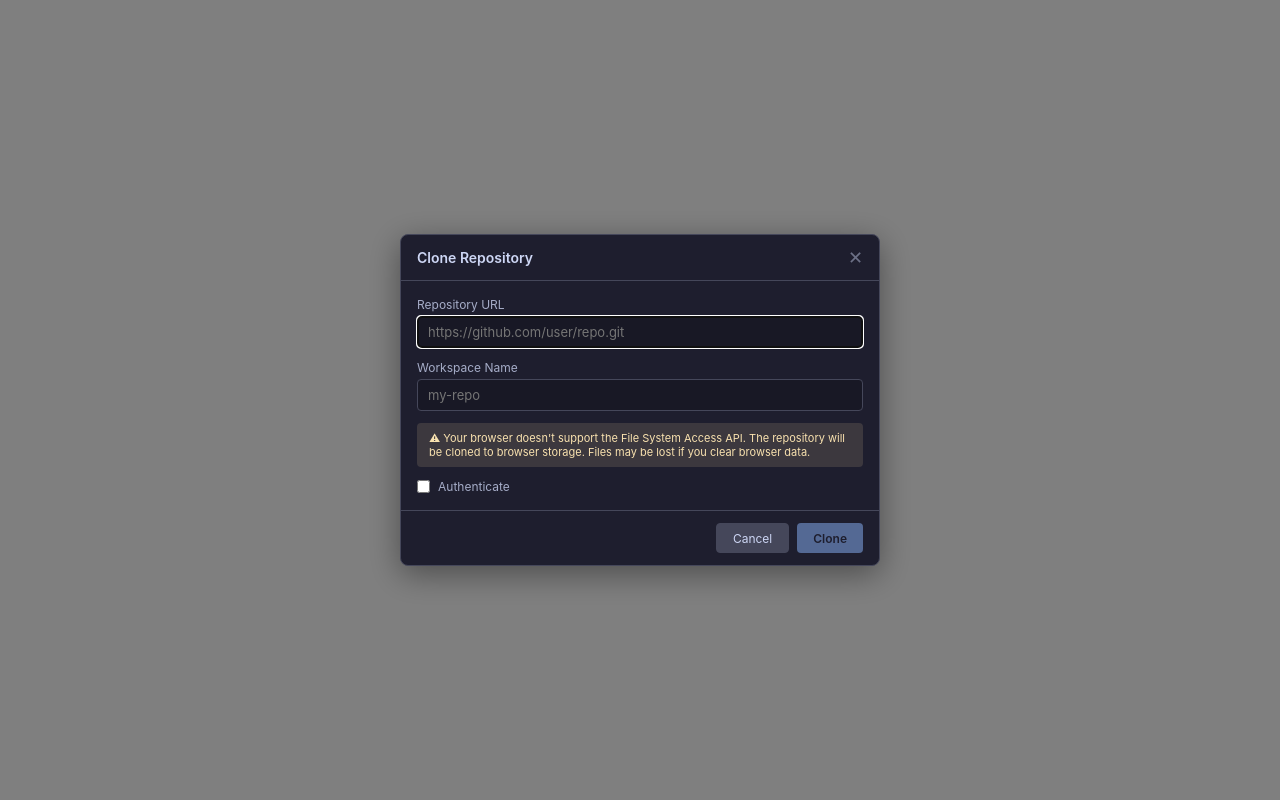
Test: CloneRepositoryViewPresenter › shows username and token inputs when auth checkbox is checked
Click the checkbox labelled "Authenticate".
click(424, 486)  # box [417, 480, 430, 493]
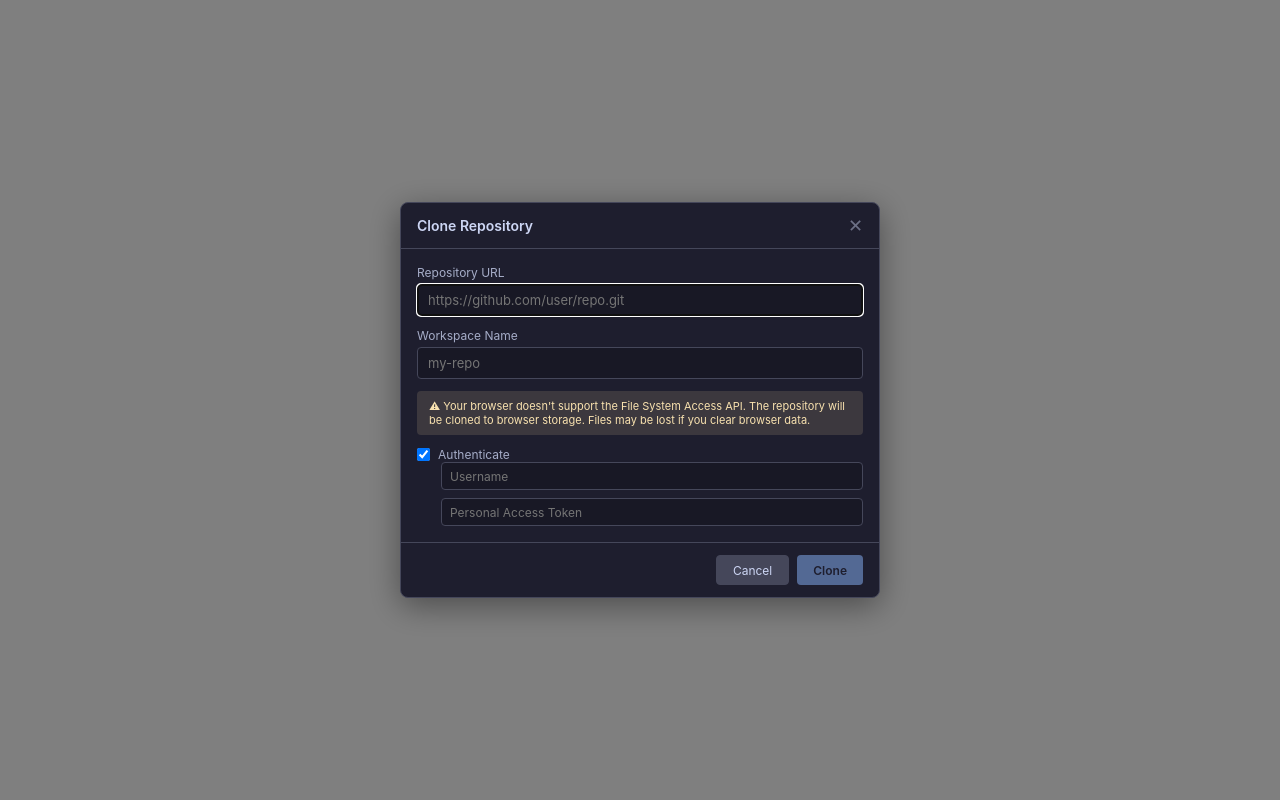
Expected: the field with placeholder "Username" is shown, [441, 462, 863, 490]
Expected: the password field with placeholder "Personal Access Token" is shown, [441, 498, 863, 526]
